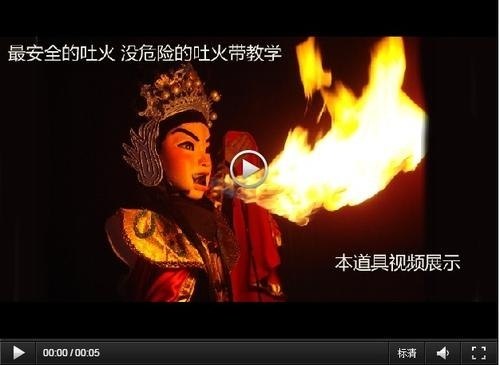fire: (249, 33, 430, 213)
